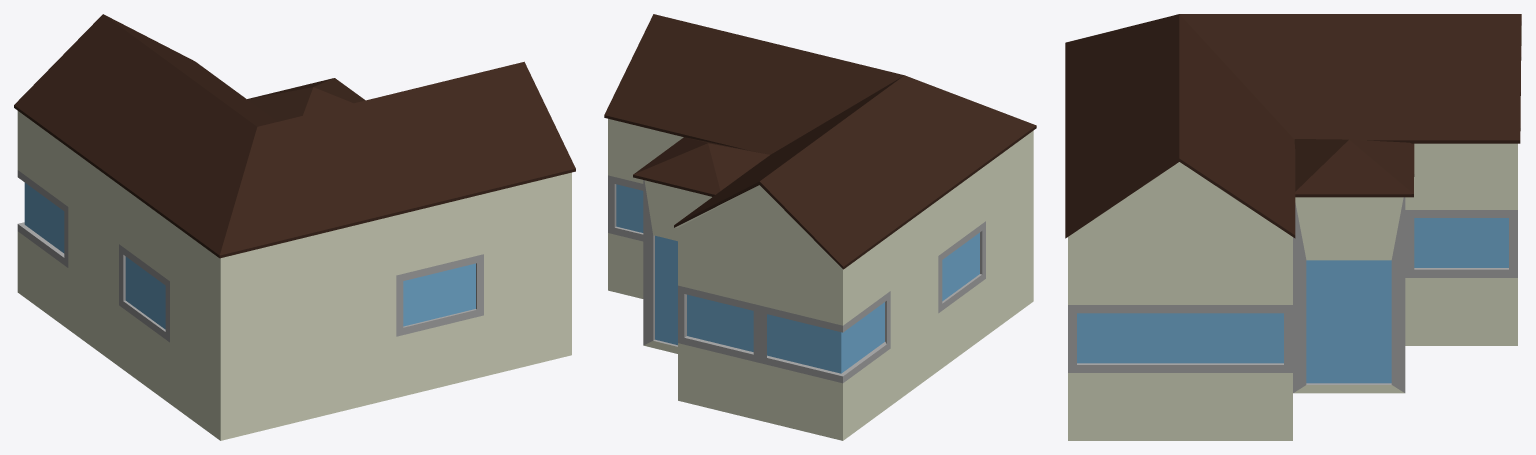
The model's file is buildings_05.fbx.
3 renders of one model, left to right at view 1: azimuth 30°, elevation 25°; view 2: azimuth 150°, elevation 25°; view 3: azimuth 270°, elevation 25°, orthographic. The views are drawn at different scales.
Parts seen in each view (by area): view 1: building_002; view 2: building_002; view 3: building_002.
Part boxes in pixels (left/top/right/bottom): building_002: left=14, top=14, right=575, bottom=440; building_002: left=604, top=14, right=1036, bottom=440; building_002: left=1065, top=14, right=1521, bottom=440.
Size of the model in its own units: 203 by 139 by 203.
